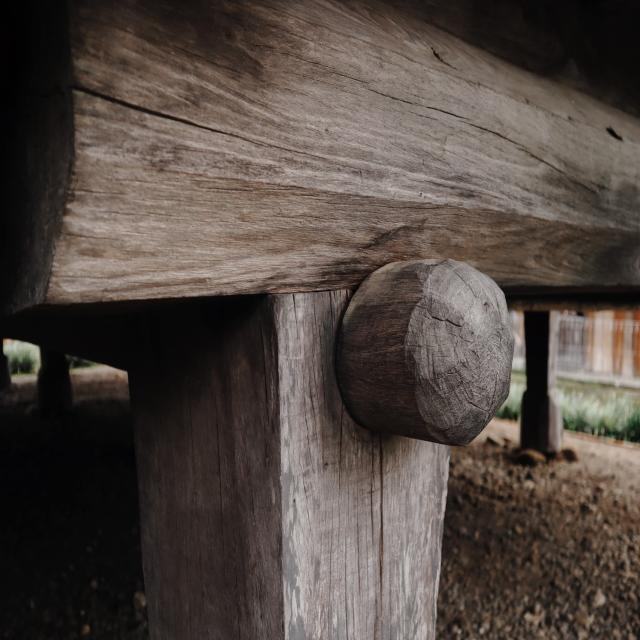Kolom: (521, 312, 563, 450)
